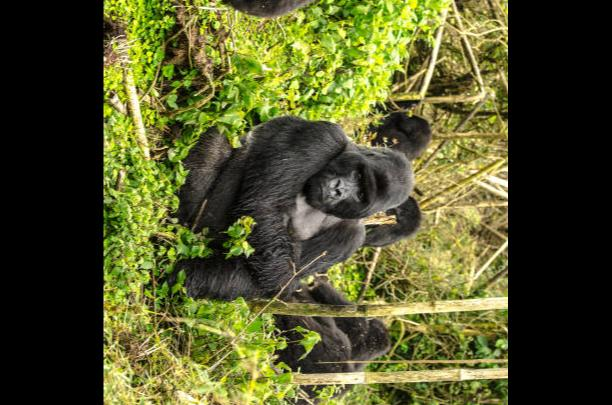goriile_montagne: (162, 113, 414, 300), (233, 0, 337, 23)
